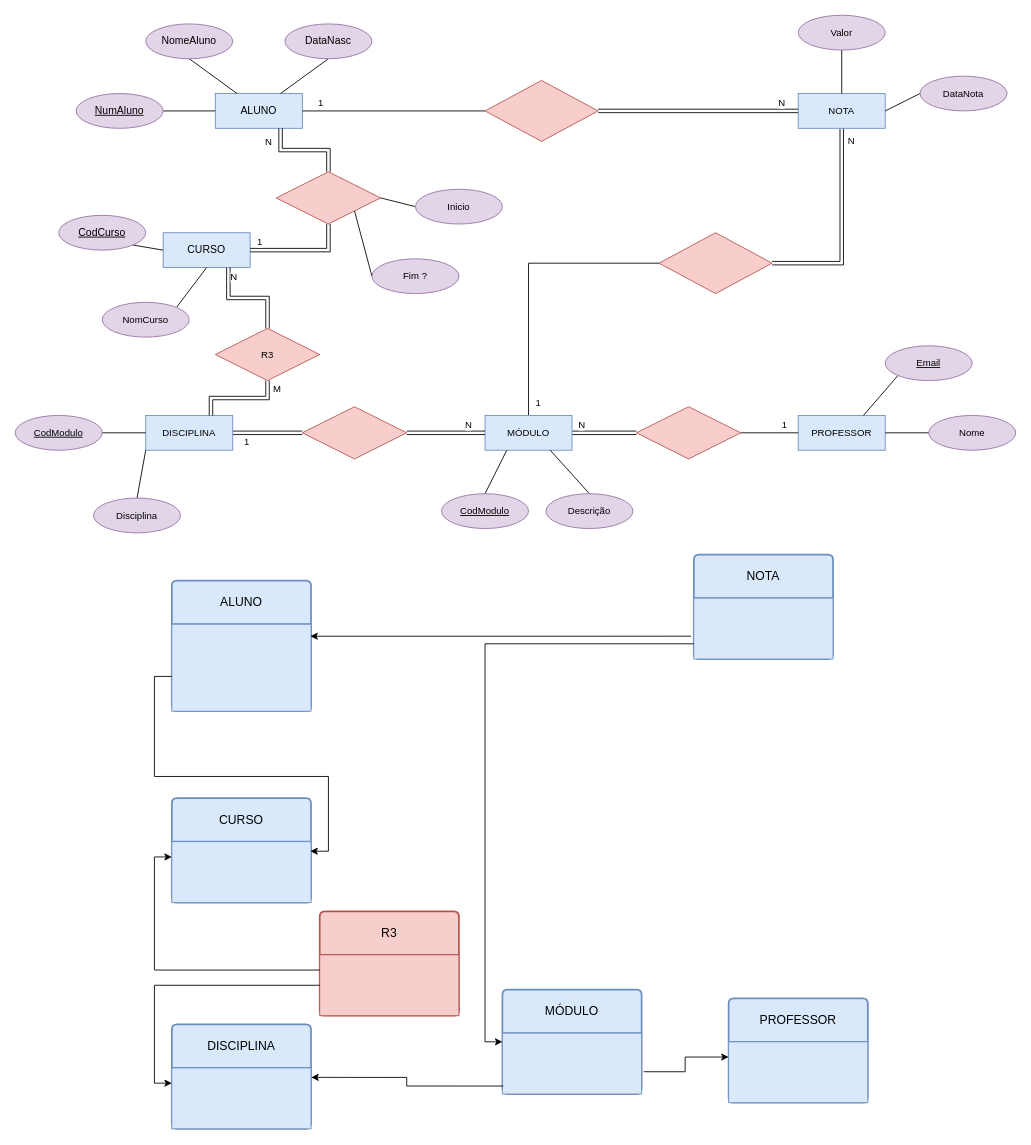
This 1031x1145 diagram has some shape labels left out. The centre of each missing label's shape, as x and y in pixels:
"ALUNO_TEM_NOTA" goes at (x=541, y=110).
"CodCurso CodModulo" goes at (x=389, y=985).
"CodCurso NomCurso" goes at (x=241, y=872).
"CodModulo Disciplina" goes at (x=241, y=1098).
"CodMódulo Descrição EmailProf CodModulo" goes at (x=572, y=1063).
"Email Nome" goes at (x=798, y=1072).
"NOTA_DE_MODULO" goes at (x=715, y=263).
"NumAluno DataNasci NomeAluno CodCurso Inicio Fim ?" goes at (x=241, y=667).
"R1" goes at (x=354, y=432).
"R2" goes at (x=688, y=432).
"R4" goes at (x=328, y=197).
"Valor DataNota NumAluno CodModulo" goes at (x=763, y=628).
